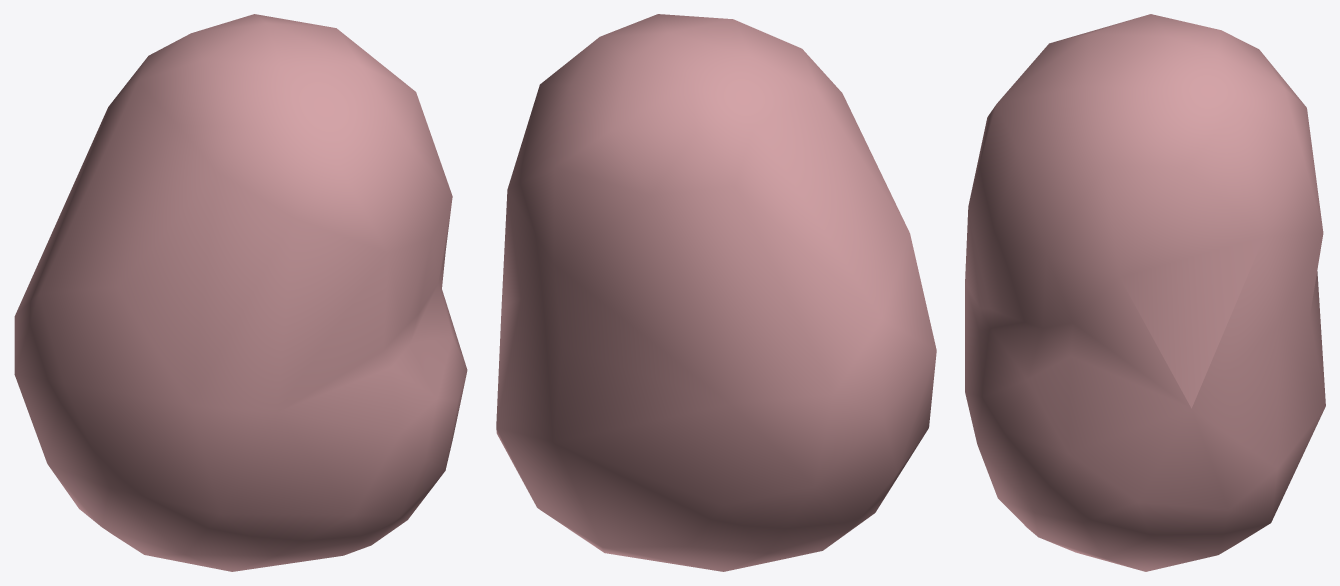
Rendered from fma16983_fj2613.glb.
3 renders of one model, left to right at view 1: azimuth 30°, elevation 25°; view 2: azimuth 150°, elevation 25°; view 3: azimuth 270°, elevation 25°, orthographic.
Visible parts, largest first — view 1: FMA16983_FJ2613; view 2: FMA16983_FJ2613; view 3: FMA16983_FJ2613.
Boxes of the visible parts, x1,y1,x2,y2 form: FMA16983_FJ2613: (14, 14, 467, 571); FMA16983_FJ2613: (496, 14, 936, 571); FMA16983_FJ2613: (965, 14, 1325, 571).
Bounding box in the file's own units: 0.0288 × 0.0359 × 0.0229.
